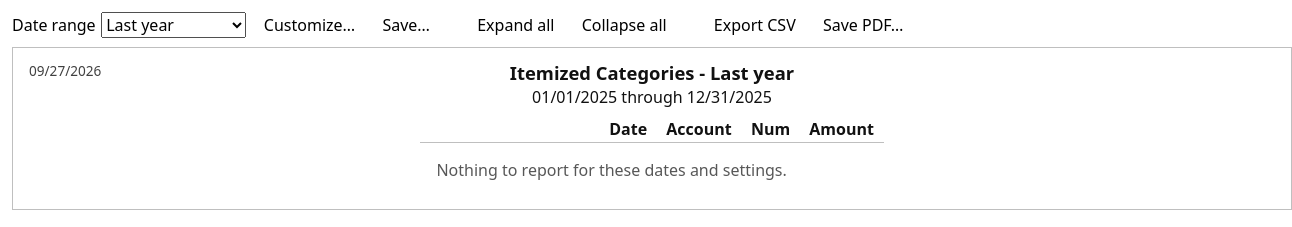
Test: Itemized report toolbar › Tax Schedule: Monthly/Quarterly/Yearly after all dates; Yearly picks a year (RPT-040)
The width and height of the screenshot is (1292, 227).
Select "Yearly" in the dropdown labelled "Date range" at (174, 25), box [101,12,246,38]
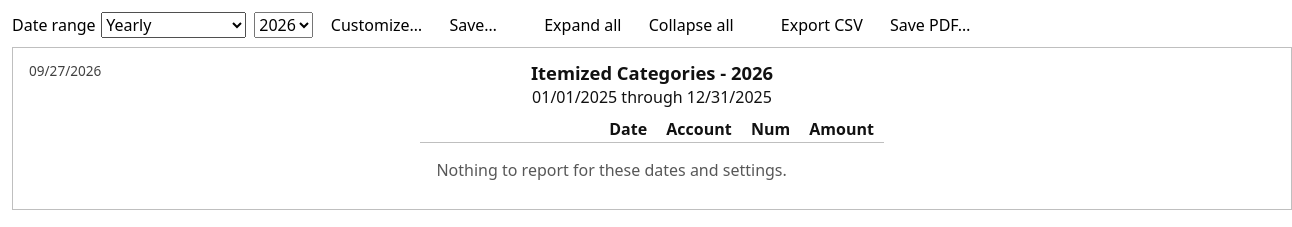
Expected: the heading "Itemized Categories - 2026" is shown, [531,60,773,85]
Select "2024" in the dropdown named "Period" at (284, 25), box [254,12,313,38]
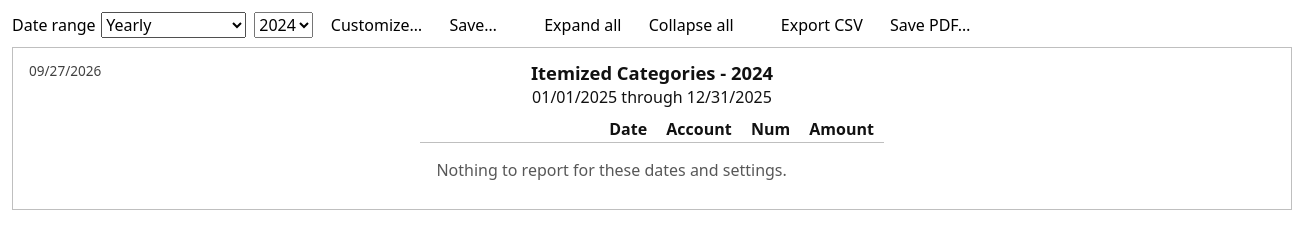
Expected: the heading "Itemized Categories - 2024" is shown, [531,60,773,85]
